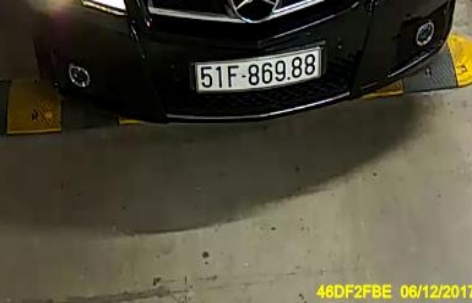plate: (190, 40, 327, 98)
